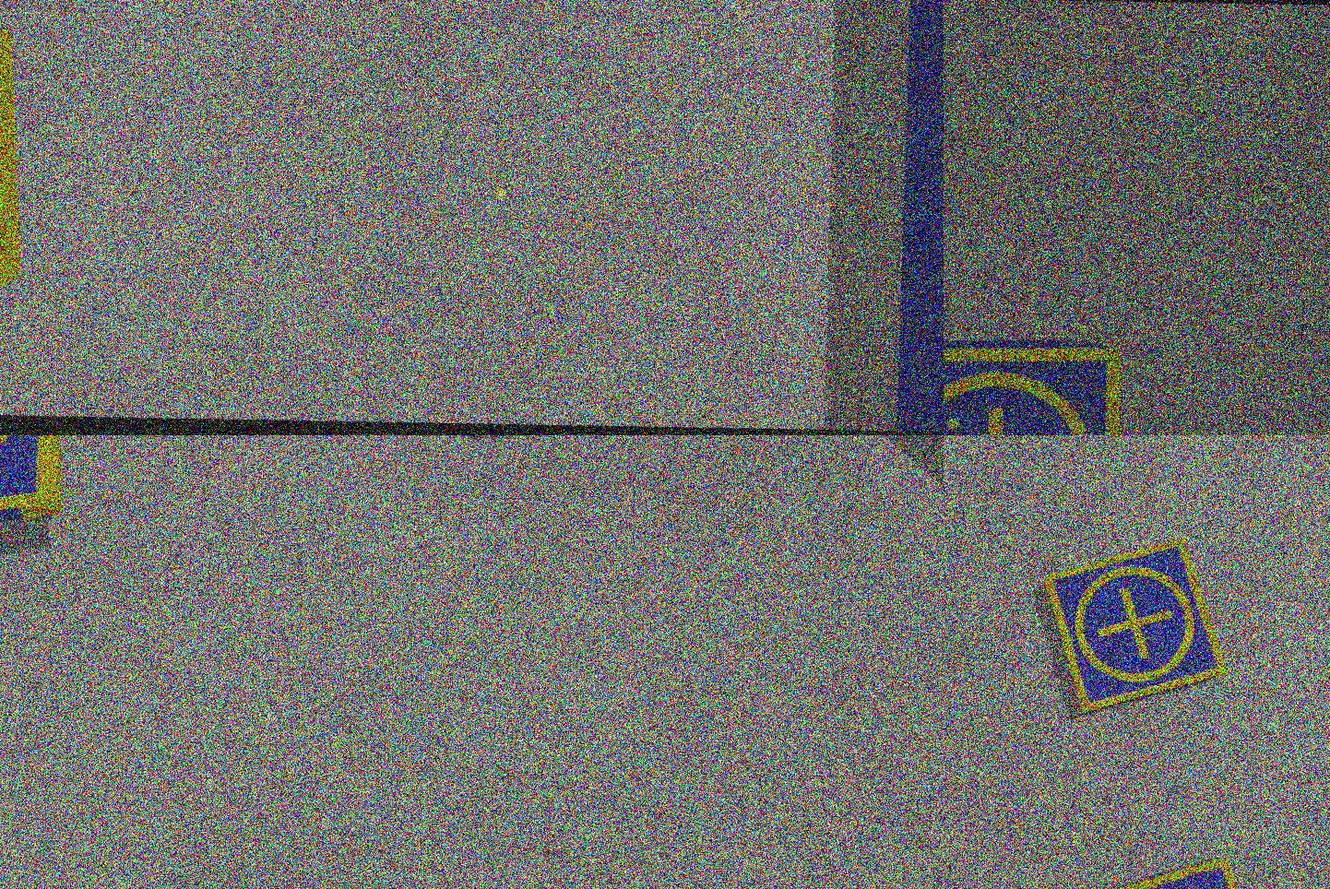large_base: (895, 1, 944, 435)
small_base: (1044, 535, 1231, 717), (944, 347, 1118, 435)
